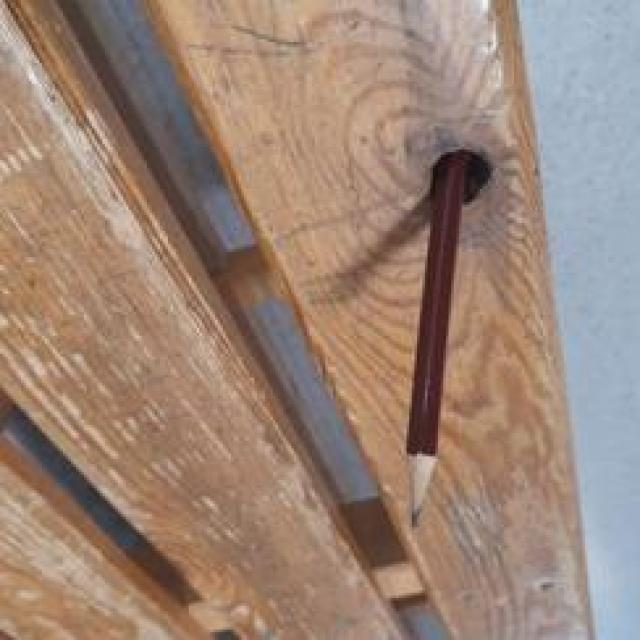pencil: (404, 147, 490, 524)
